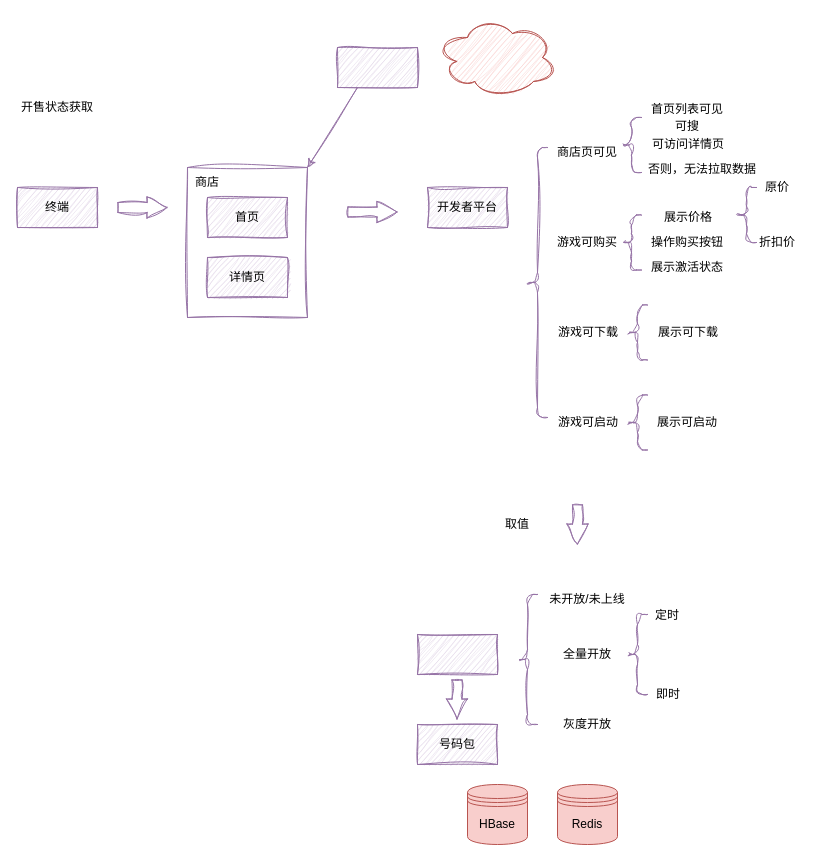
This 835x862 diagram has some shape labels left out. The box of each missing label's shape, as (x1, y1, x2, y2) in pixels:
先配置，再推荐，或配置 + 推荐: (436, 16, 558, 98)
白名单系统: (416, 634, 498, 674)
资源位系统: (336, 46, 418, 88)
